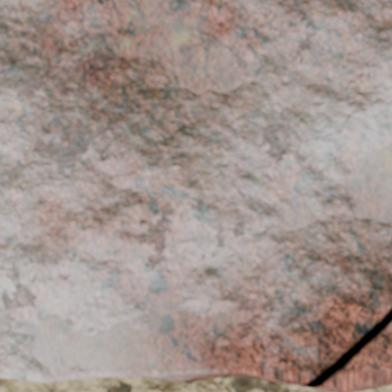brick: (0, 0, 391, 385), (316, 325, 391, 391)
crack: (303, 309, 391, 389), (278, 379, 292, 383)
